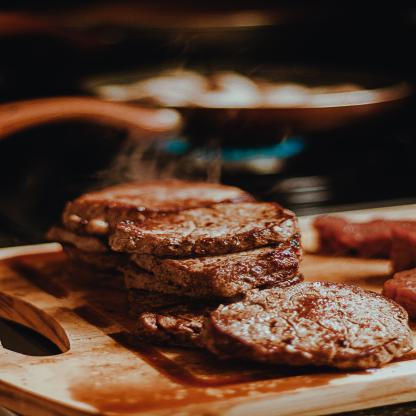Carne: (210, 281, 415, 364), (112, 197, 298, 249), (114, 246, 316, 289), (68, 193, 114, 240)
